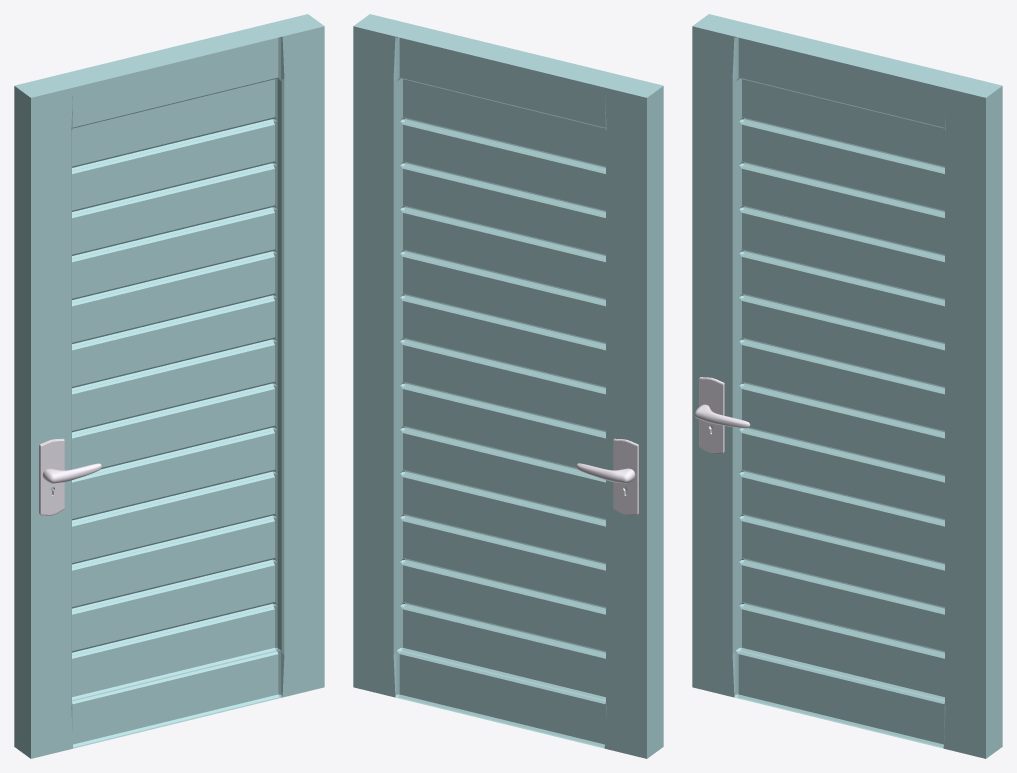
File: PINTU KAMAR MANI.fbx
The picture shows the model from 3 angles, left to right: view 1: azimuth 30°, elevation 25°; view 2: azimuth 150°, elevation 25°; view 3: azimuth 330°, elevation 25°; orthographic projection.
Visible parts, largest first — view 1: BUKA PINTU KAMAR MANDI, GAGANG.001, Sphere.017; view 2: BUKA PINTU KAMAR MANDI, GAGANG.001, Sphere.001; view 3: BUKA PINTU KAMAR MANDI, GAGANG.001, Sphere.017.
Part boxes in pixels (x1,y1,x2,y2): BUKA PINTU KAMAR MANDI: [14, 14, 324, 758]; GAGANG.001: [39, 438, 64, 515]; Sphere.017: [42, 463, 101, 483]; BUKA PINTU KAMAR MANDI: [353, 14, 663, 758]; GAGANG.001: [613, 438, 638, 515]; Sphere.001: [576, 463, 635, 483]; BUKA PINTU KAMAR MANDI: [692, 14, 1002, 758]; GAGANG.001: [699, 377, 724, 453]; Sphere.017: [694, 404, 750, 428].
Size of the model in its own units: 609 by 1310 by 134.
